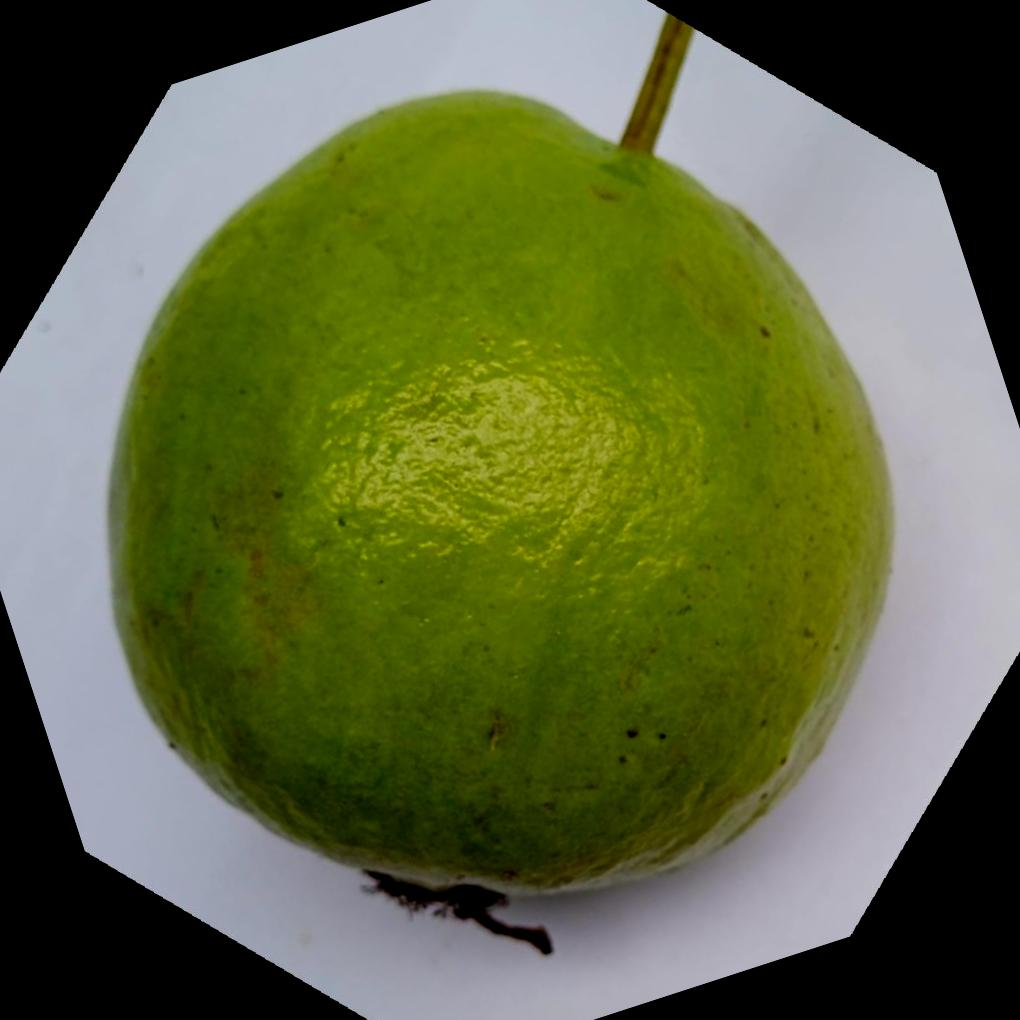FreshGuava: (103, 90, 898, 903)
